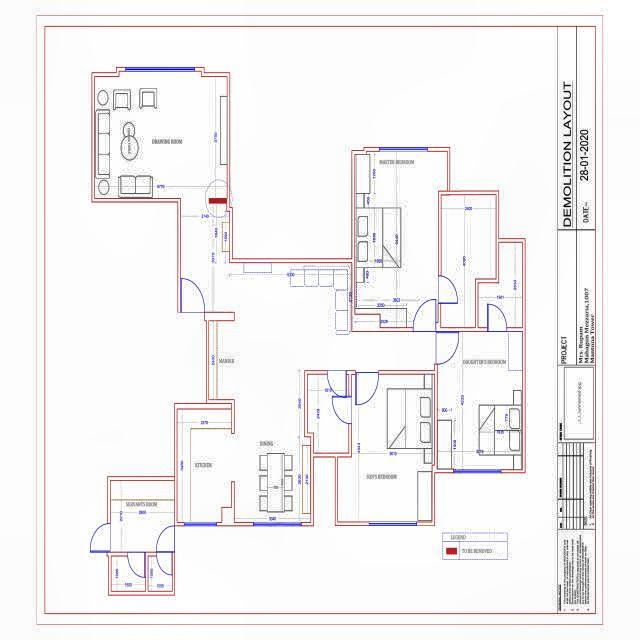room: (95, 76, 226, 200), (353, 152, 448, 322), (336, 374, 435, 523), (439, 333, 522, 471), (236, 369, 310, 523), (440, 194, 496, 327), (178, 407, 232, 521), (110, 479, 172, 551), (478, 243, 522, 327), (307, 372, 350, 452)
